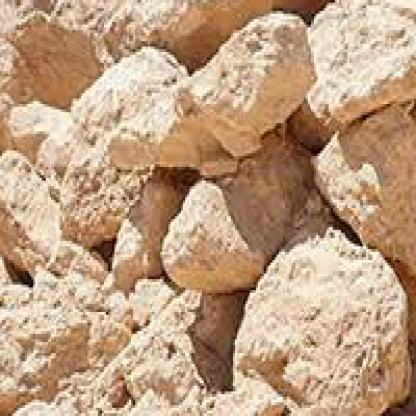Sedimentary_Limestone: (243, 227, 412, 413), (171, 4, 316, 177)
